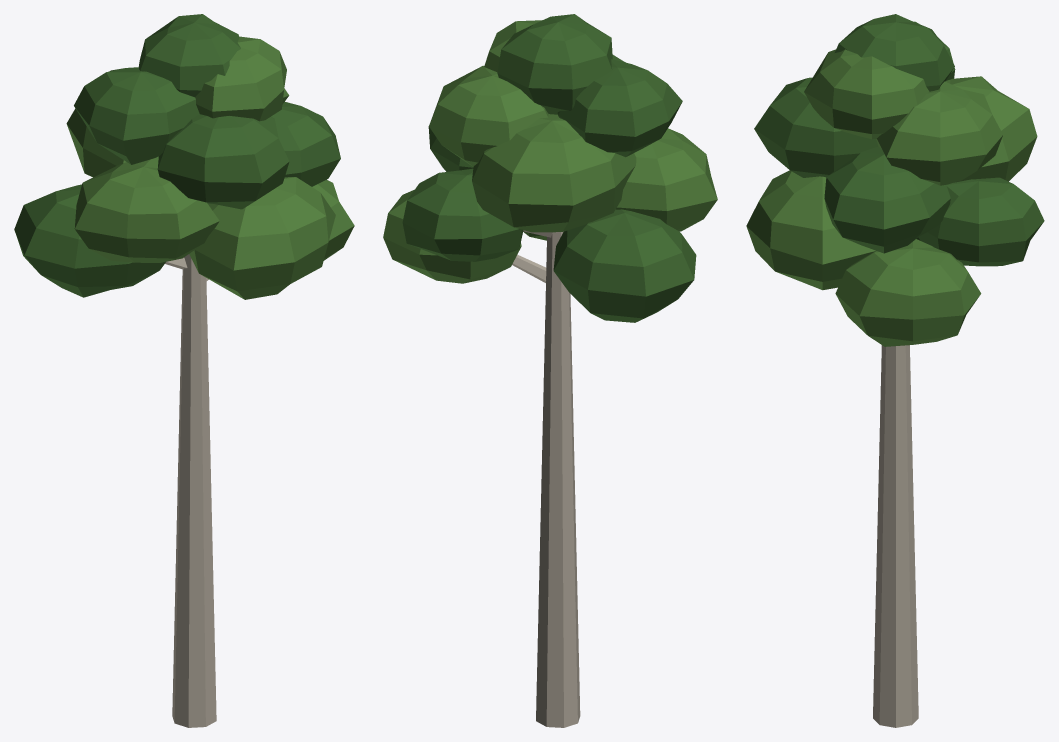
File: tree_toog_large.glb
3 renders of one model, left to right at view 1: azimuth 30°, elevation 25°; view 2: azimuth 150°, elevation 25°; view 3: azimuth 270°, elevation 25°, orthographic.
Parts seen in each view (by area): view 1: tree_toog_large; view 2: tree_toog_large; view 3: tree_toog_large.
Boxes of the visible parts, <box> form: tree_toog_large: <box>14,14,354,727</box>; tree_toog_large: <box>383,14,717,727</box>; tree_toog_large: <box>746,14,1044,727</box>.
Bounding box in the file's own units: 8.22 × 18.07 × 7.02.
